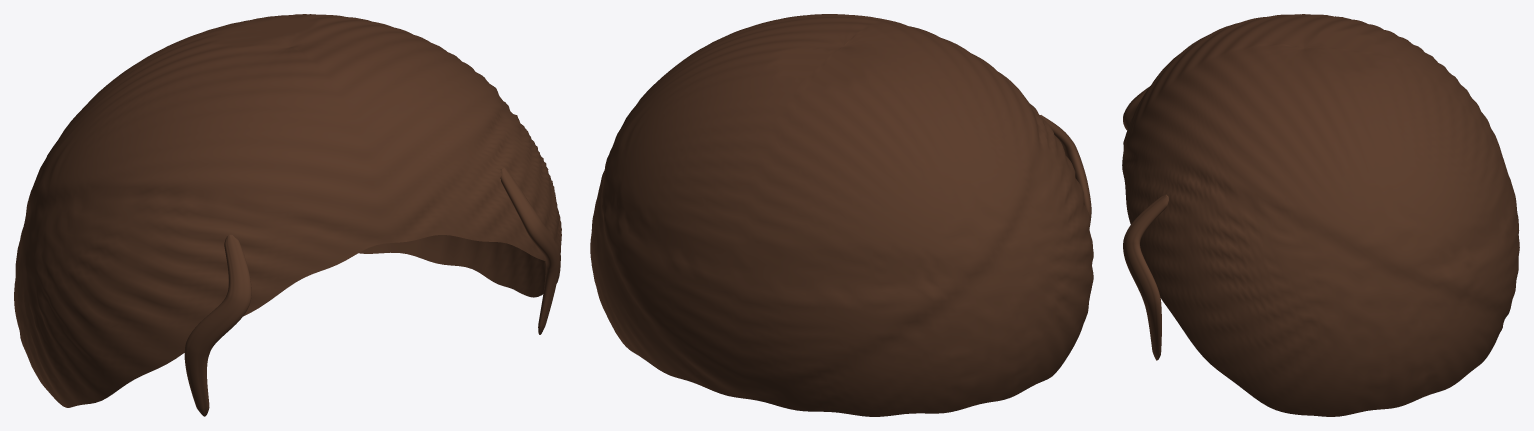
File: Highlights-f5a82f1d884a251-hair.glb
3 views of the same model, side by side, from view 1: azimuth 30°, elevation 25°; view 2: azimuth 150°, elevation 25°; view 3: azimuth 270°, elevation 25° (orthographic). The views are drawn at different scales.
Parts seen in each view (by area): view 1: 226 hair / Hair / chestnut226.002; view 2: 226 hair / Hair / chestnut226.002; view 3: 226 hair / Hair / chestnut226.002.
Part boxes in pixels (x1,y1,x2,y2): 226 hair / Hair / chestnut226.002: (14, 14, 561, 416); 226 hair / Hair / chestnut226.002: (590, 14, 1093, 416); 226 hair / Hair / chestnut226.002: (1122, 14, 1519, 416).
Size of the model in its own units: 0.9981 by 0.5988 by 0.7846.
